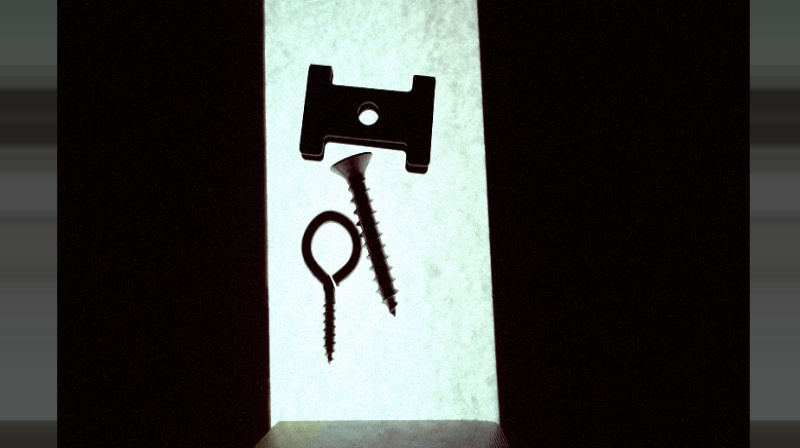O001: (295, 206, 365, 367)
O002: (295, 61, 438, 177)
S001: (327, 148, 398, 321)
